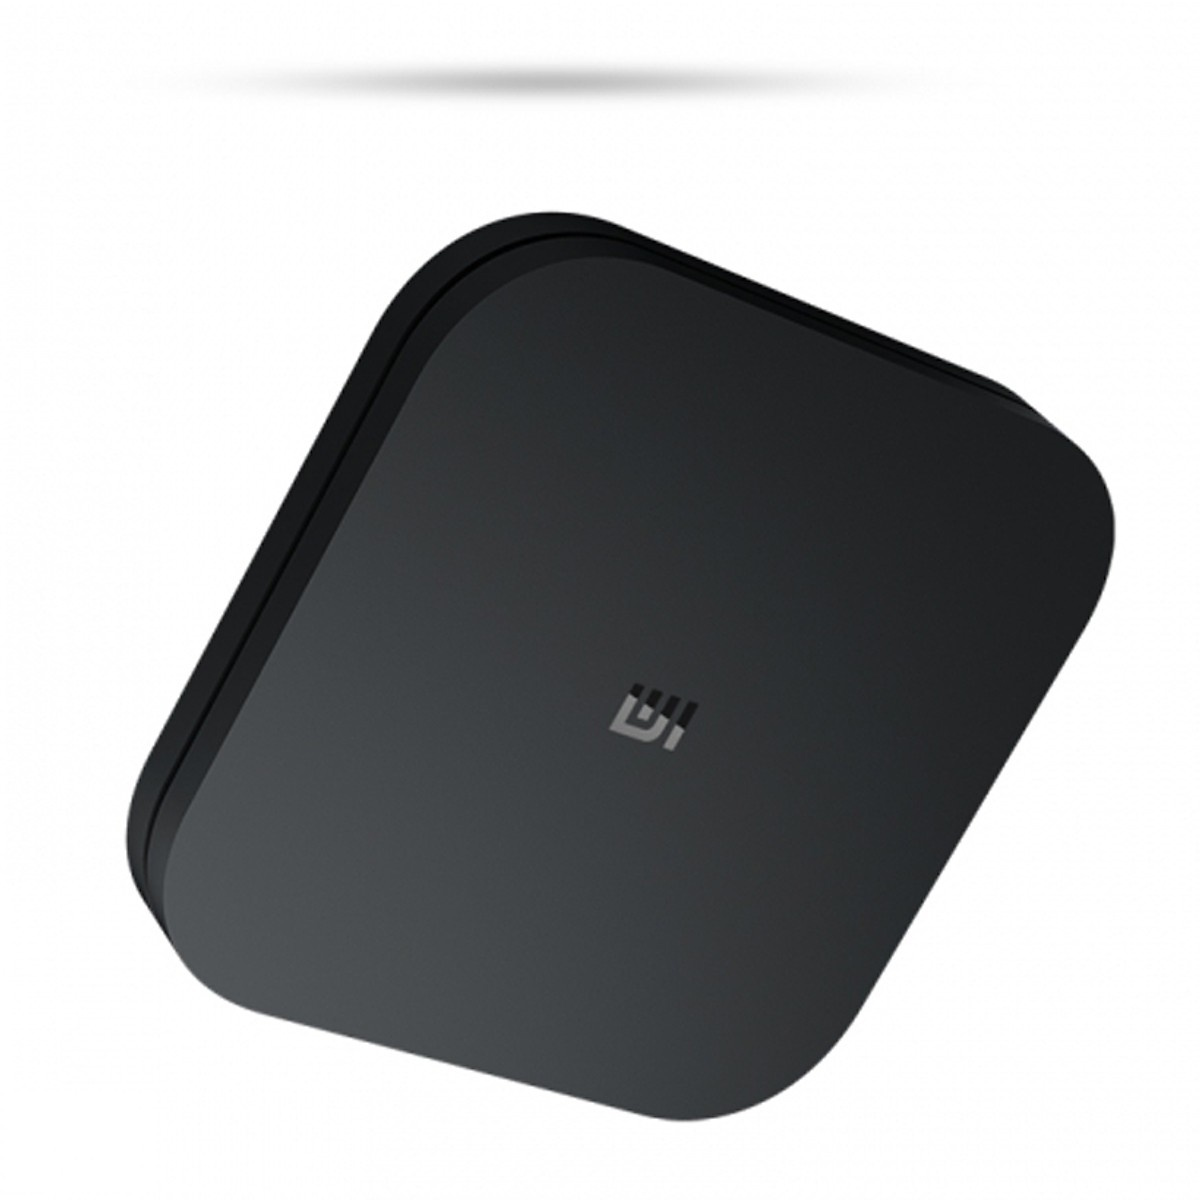Xiaomi: (504, 596, 810, 797)
